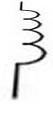inductor: (14, 6, 44, 71)
